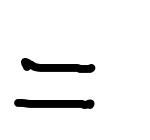eqv: (14, 58, 95, 109)
